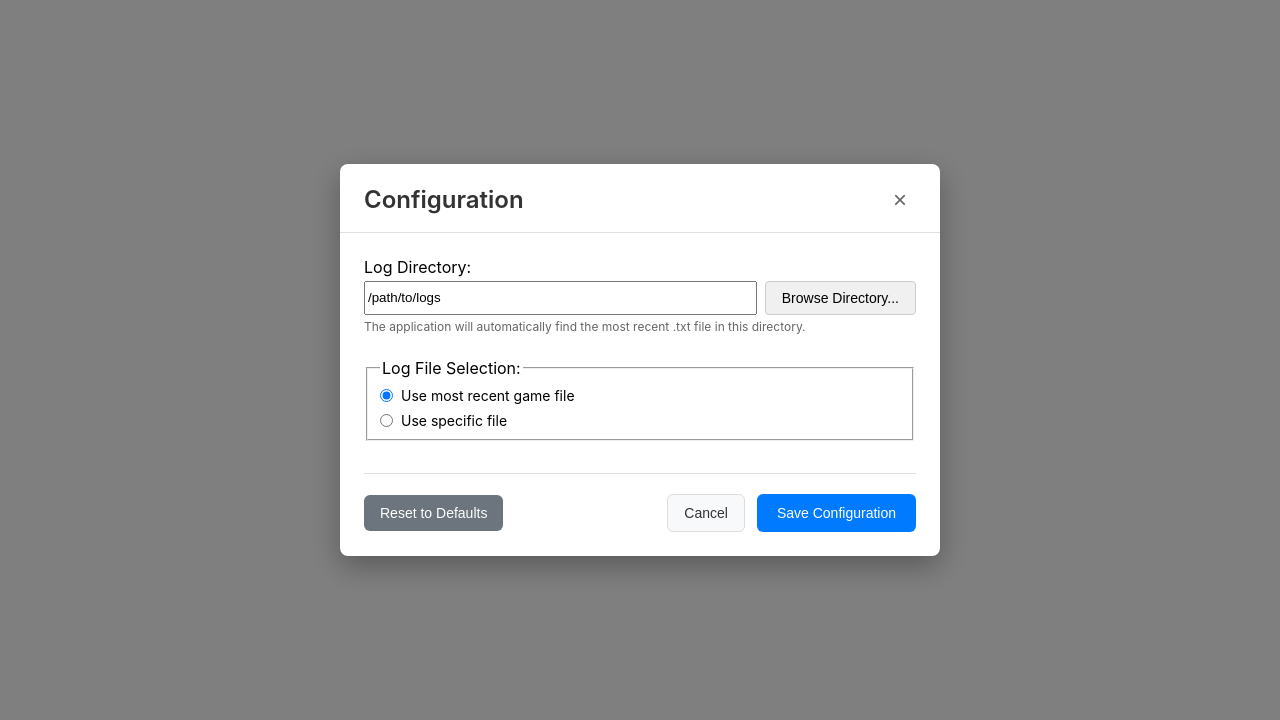
Test case: ConfigModal › Form interactions › switches between recent and specific file modes
Expected: the radio button labelled "Use most recent game file" is checked, [380,389,393,402]
Click the radio button labelled "Use specific file".
click(386, 421)  # box [380,414,393,427]
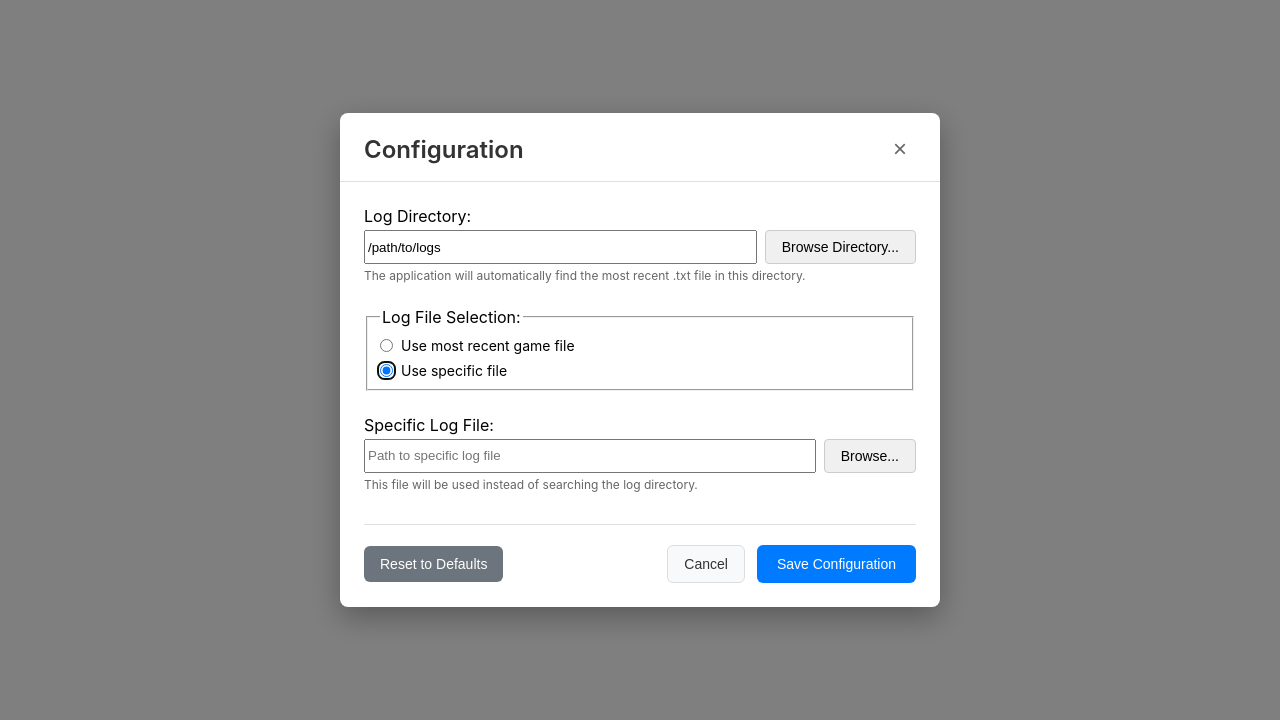
Result: the radio button labelled "Use specific file" is checked at [380,364,393,377]
Result: the radio button labelled "Use most recent game file" is not checked at [380,339,393,352]
Result: the field labelled "Specific Log File:" is shown at [364,439,816,473]
